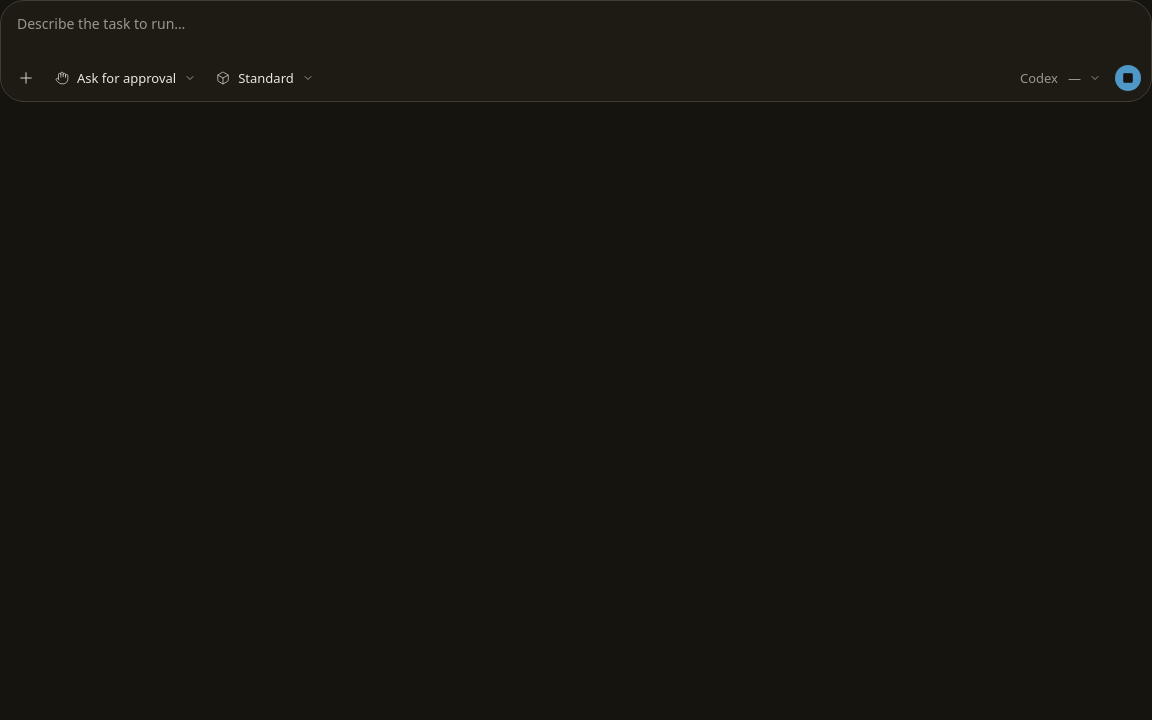
Test case: identifies Codex changes that apply on the next turn
This screenshot has width=1152, height=720.
Click the button with class "composer-permissions".
click(126, 78)  # box left=49, top=65, right=202, bottom=91
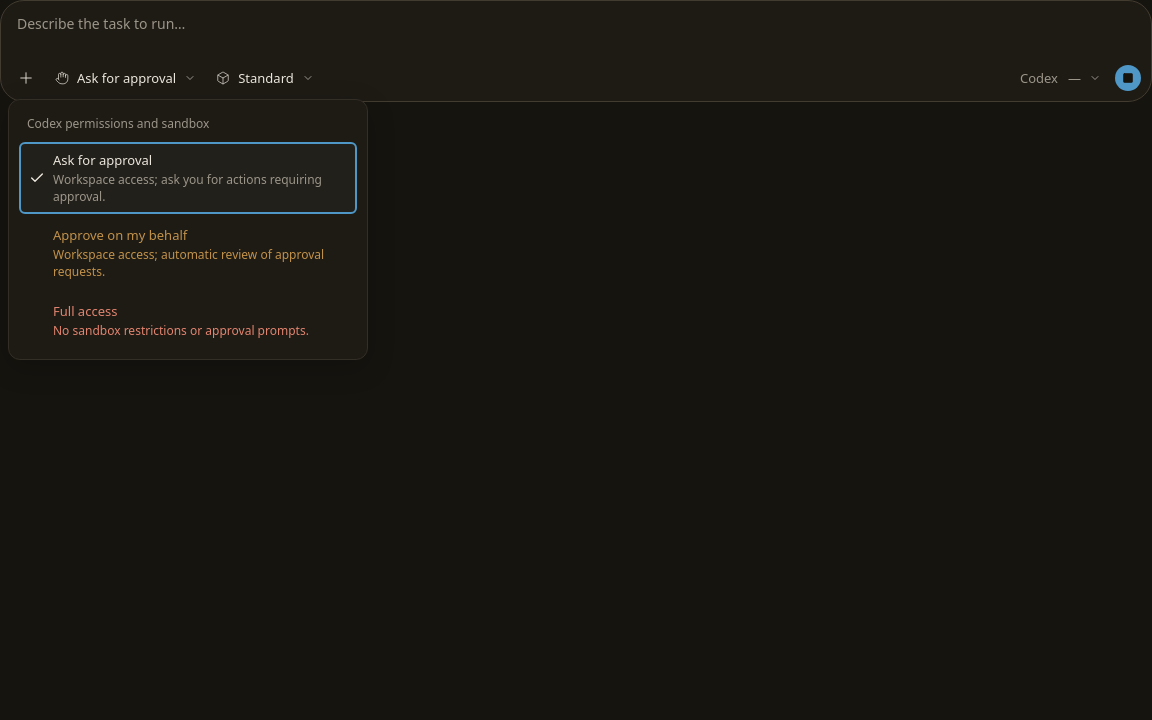
Click the button "automatic review".
click(188, 254)  # box left=19, top=217, right=357, bottom=290
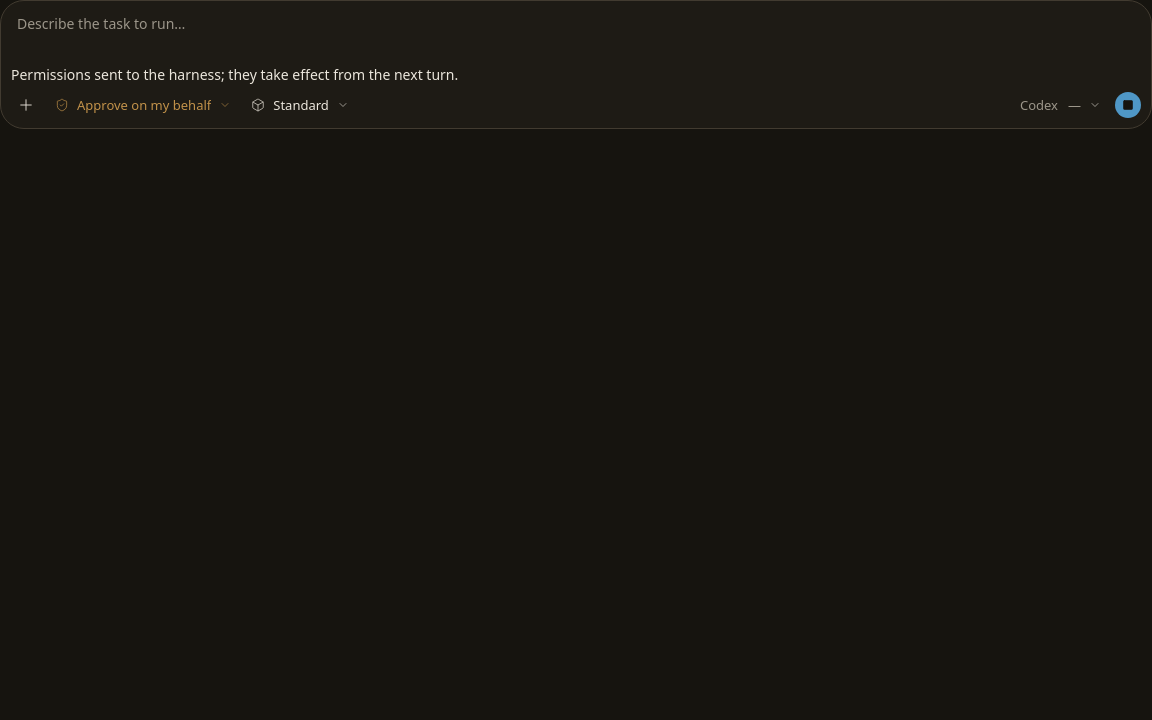
expect the message shows "next turn": met, box left=11, top=65, right=458, bottom=84
